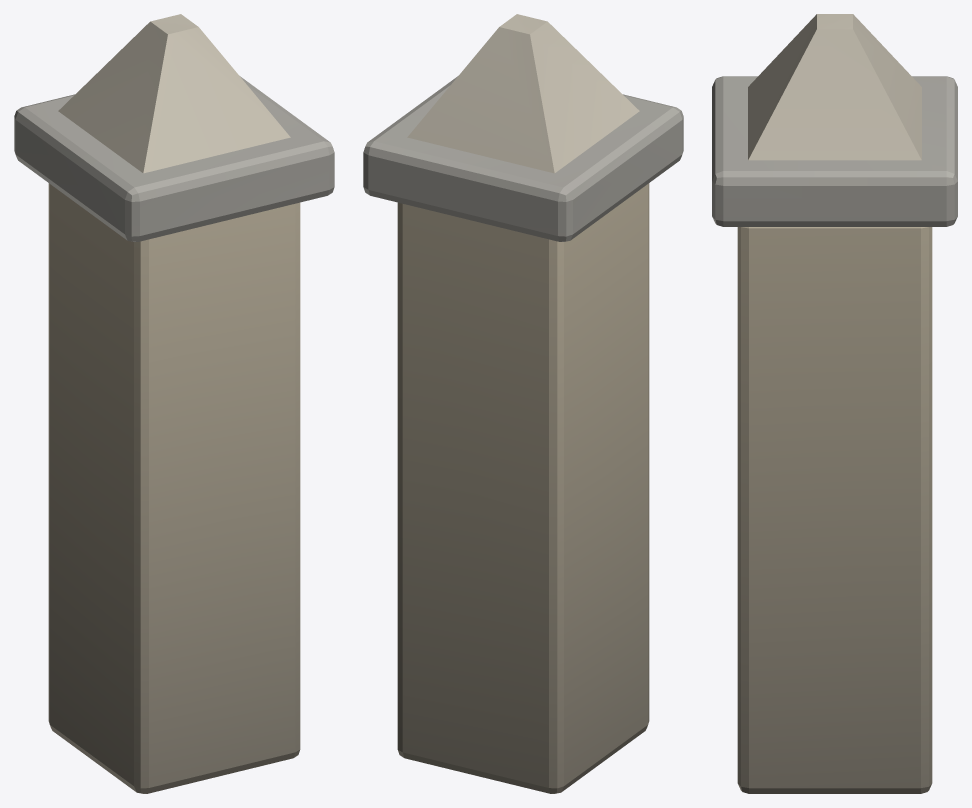
Rendered from fence_pillar.glb.
3 renders of one model, left to right at view 1: azimuth 30°, elevation 25°; view 2: azimuth 150°, elevation 25°; view 3: azimuth 270°, elevation 25°, orthographic. The views are drawn at different scales.
Visible parts, largest first — view 1: FencePost; view 2: FencePost; view 3: FencePost.
Part boxes in pixels (bbox=[...]): FencePost: bbox=[14, 14, 334, 793]; FencePost: bbox=[363, 14, 683, 793]; FencePost: bbox=[712, 14, 957, 793].
Size of the model in its own units: 0.48 by 1.59 by 0.48.
